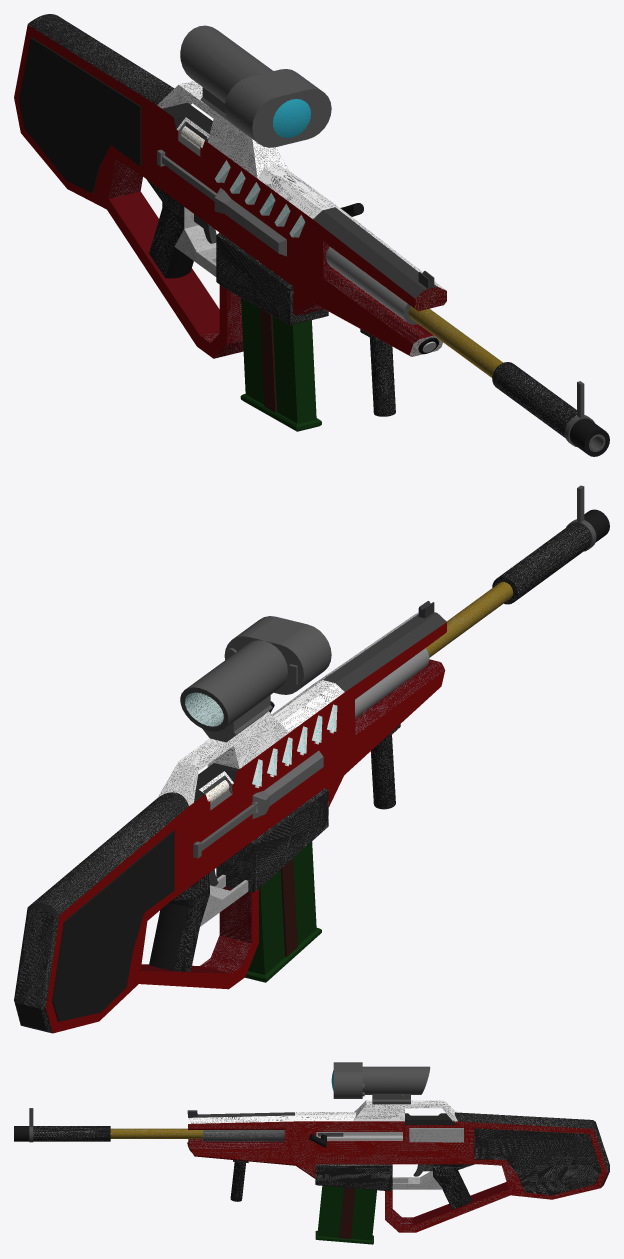
The picture shows the model from 3 angles, top to bottom: view 1: azimuth 30°, elevation 25°; view 2: azimuth 150°, elevation 25°; view 3: azimuth 270°, elevation 25°; orthographic projection. The views are drawn at different scales.
Visible parts, largest first — view 1: SketchUp (×25); view 2: SketchUp (×24); view 3: SketchUp (×20).
Part boxes in pixels (x1,y1,x2,y2): SketchUp (×25): [14, 14, 609, 456]; SketchUp (×24): [14, 523, 591, 1033]; SketchUp (×20): [33, 1062, 609, 1244].
Bounding box in the file's own units: 5.52 × 60.72 × 19.55.
